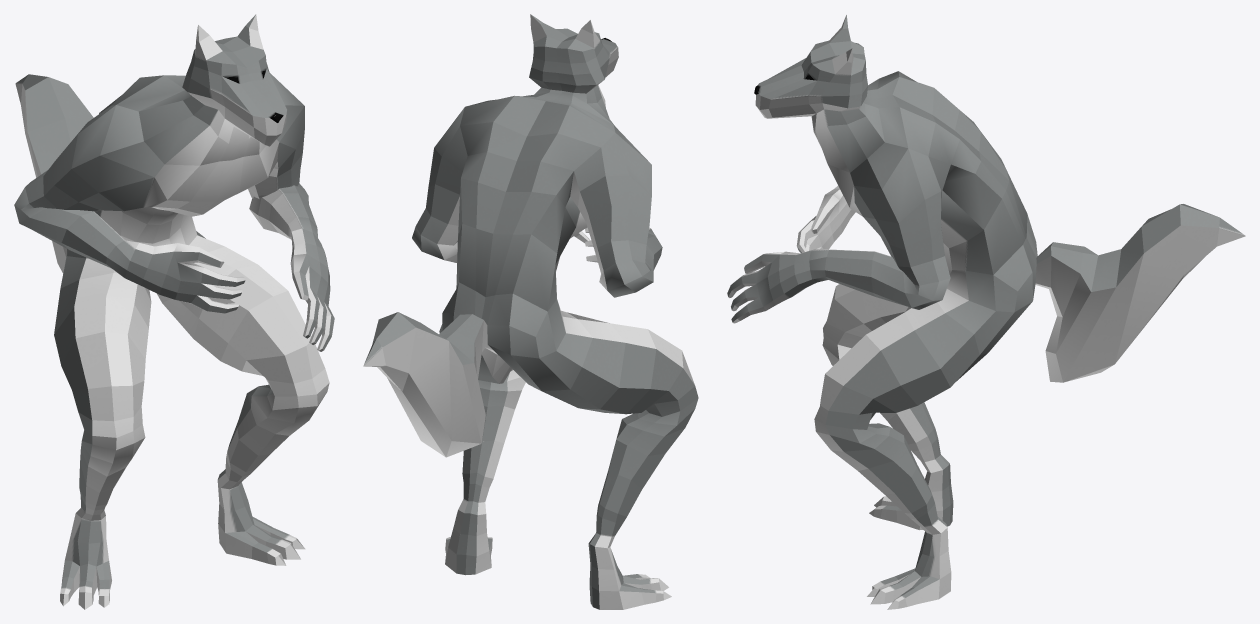
The model's file is WolfIdle_(112).obj.
3 views of the same model, side by side, from view 1: azimuth 30°, elevation 25°; view 2: azimuth 150°, elevation 25°; view 3: azimuth 270°, elevation 25° (orthographic). The views are drawn at different scales.
Visible parts, largest first — view 1: Box001; view 2: Box001; view 3: Box001.
Boxes of the visible parts, x1=… form: Box001: x1=14, y1=14, x2=334, y2=609; Box001: x1=363, y1=14, x2=698, y2=609; Box001: x1=727, y1=15, x2=1245, y2=609.
Size of the model in its own units: 64.47 by 132 by 115.
